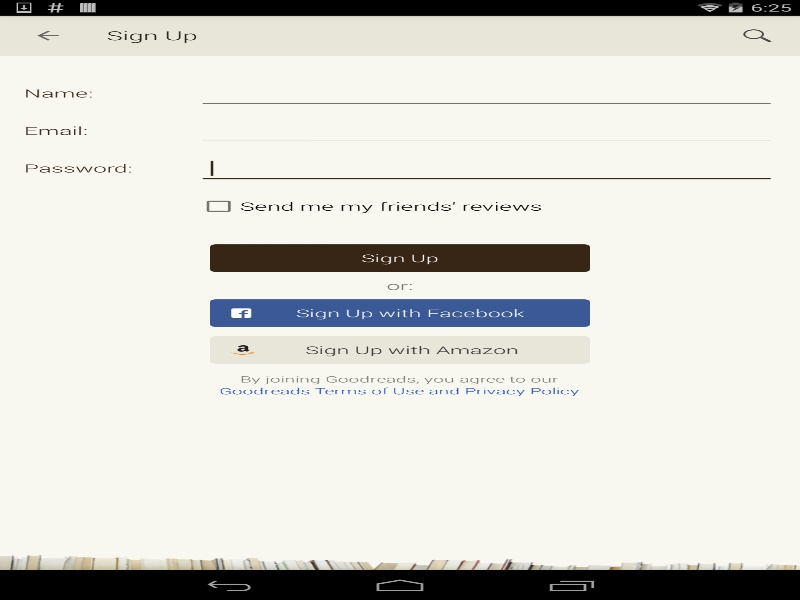Button: (210, 244, 590, 271), (210, 299, 590, 326), (210, 336, 590, 363), (10, 15, 85, 55)
Input: (197, 77, 776, 108), (197, 115, 776, 146), (197, 152, 776, 183)
